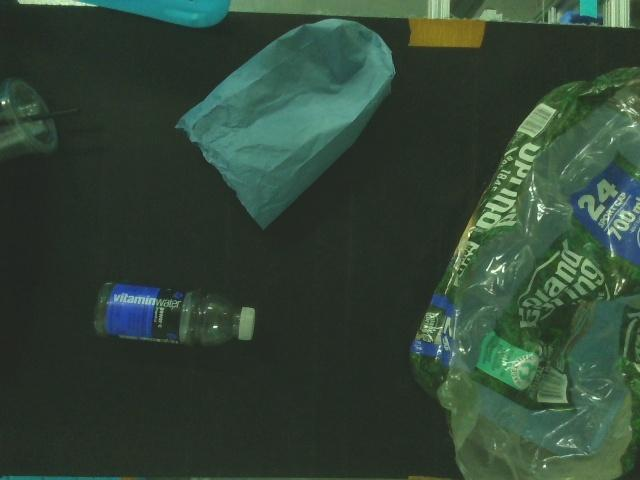paper: (172, 16, 401, 234)
plastic: (407, 59, 640, 480), (89, 280, 258, 348), (0, 67, 86, 178)
